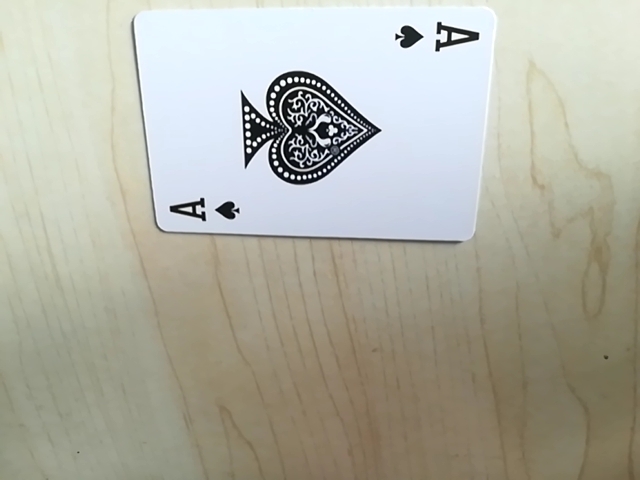ht a: (389, 16, 482, 63), (161, 191, 244, 230)
